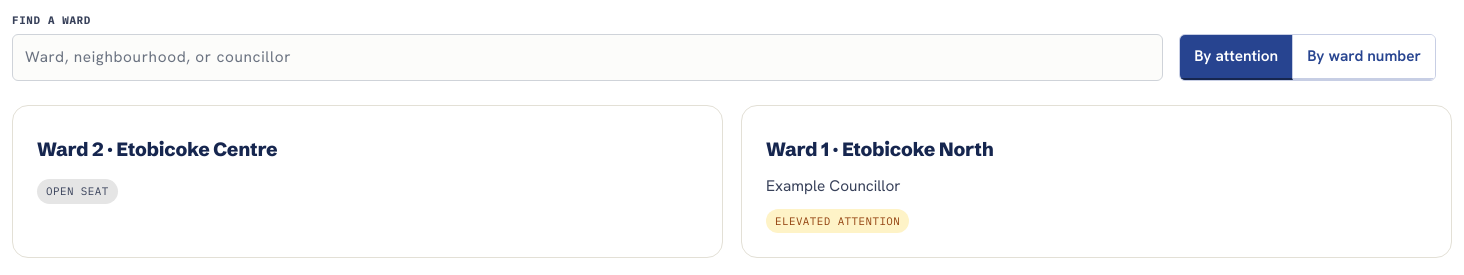
WardsBrowser › labels the search, reports the count, and explains a zero-result search
Type "not-a-real-ward" into the search field labelled "Find a ward".
click(588, 58); type("not-a-real-ward")  # box [12, 34, 1163, 81]
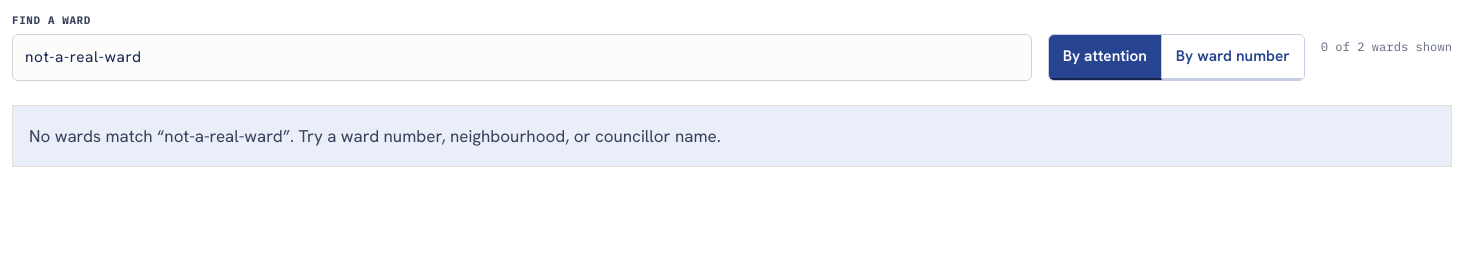
expect the message shows "No wards match “not-a-real-ward”": met, box [12, 105, 1452, 167]
